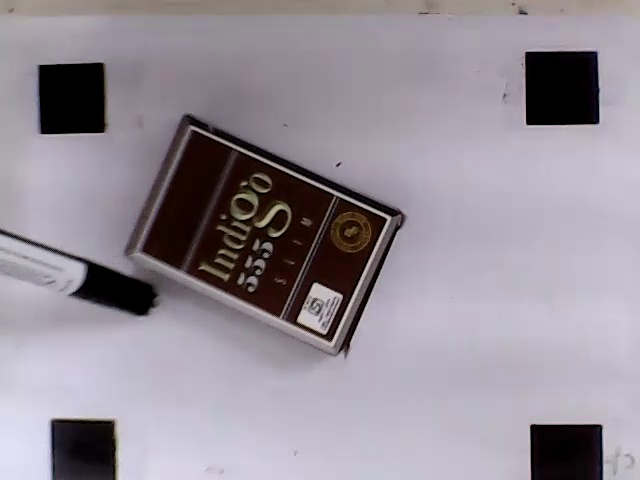BEX: (138, 127, 390, 343)
